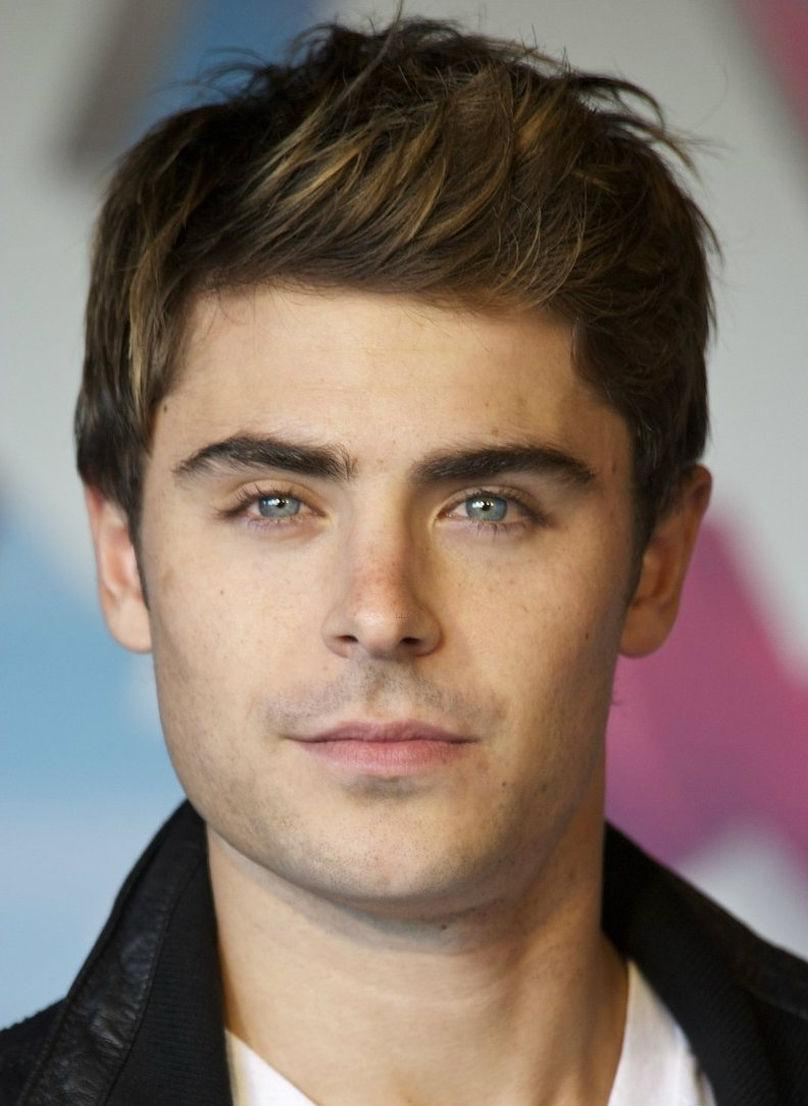Sober: (158, 301, 609, 875)
